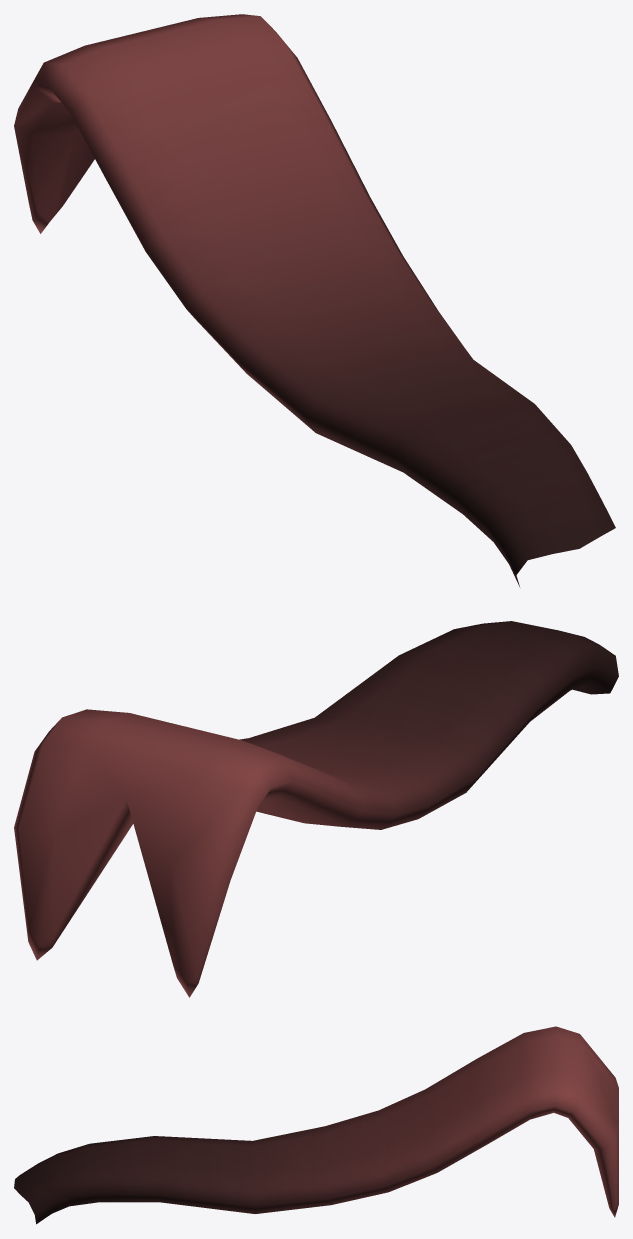
The model's file is forked.glb.
3 renders of one model, top to bottom at view 1: azimuth 30°, elevation 25°; view 2: azimuth 150°, elevation 25°; view 3: azimuth 270°, elevation 25°, orthographic. The views are drawn at different scales.
Parts seen in each view (by area): view 1: cc_forked1; view 2: cc_forked1; view 3: cc_forked1.
Part boxes in pixels (left/top/right/bottom): cc_forked1: left=14, top=14, right=615, bottom=586; cc_forked1: left=14, top=621, right=618, bottom=997; cc_forked1: left=14, top=1026, right=618, bottom=1224.
Bounding box in the file's own units: 0.0424 × 0.045 × 0.151.
1 material, 1 textured.
